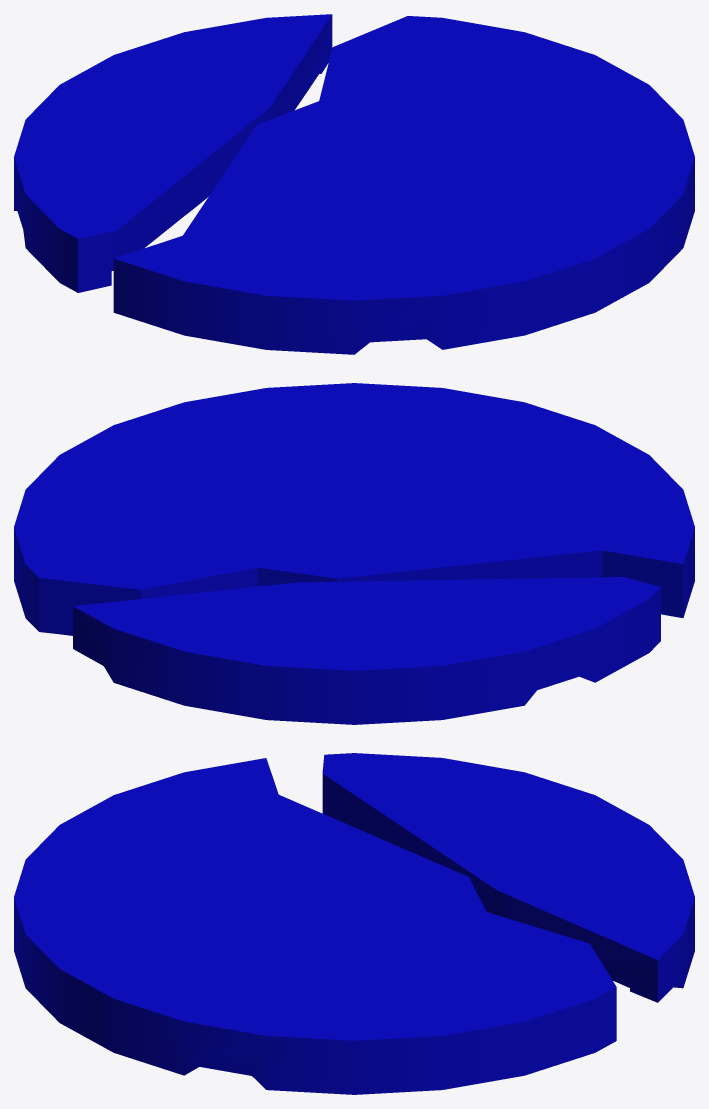
Rendered from SM_Tank_Pool_Broken.fbx.
3 renders of one model, top to bottom at view 1: azimuth 30°, elevation 25°; view 2: azimuth 150°, elevation 25°; view 3: azimuth 270°, elevation 25°, orthographic.
Parts seen in each view (by area): view 1: SM_Tank_Pool_Top001, Object001; view 2: SM_Tank_Pool_Top001, Object001; view 3: SM_Tank_Pool_Top001, Object001.
Part boxes in pixels (box(x1,y1,x2,y2)): SM_Tank_Pool_Top001: box(113, 16, 694, 354); Object001: box(14, 14, 332, 292); SM_Tank_Pool_Top001: box(14, 383, 694, 635); Object001: box(73, 577, 660, 724); SM_Tank_Pool_Top001: box(14, 758, 616, 1094); Object001: box(322, 753, 694, 1002).
Size of the model in its own units: 12.77 by 1.13 by 12.77.
